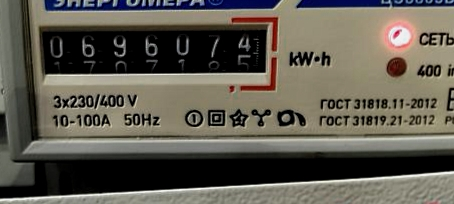0: (47, 34, 66, 59), (174, 31, 191, 57)
4: (236, 30, 252, 52)
5: (236, 53, 252, 73)
6: (142, 31, 160, 58), (79, 33, 97, 58)
7: (206, 32, 222, 58)
9: (111, 32, 127, 58)
screen: (29, 14, 282, 94)
